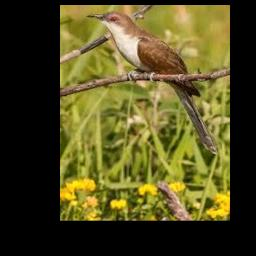Cuckoo: (86, 12, 219, 153)
